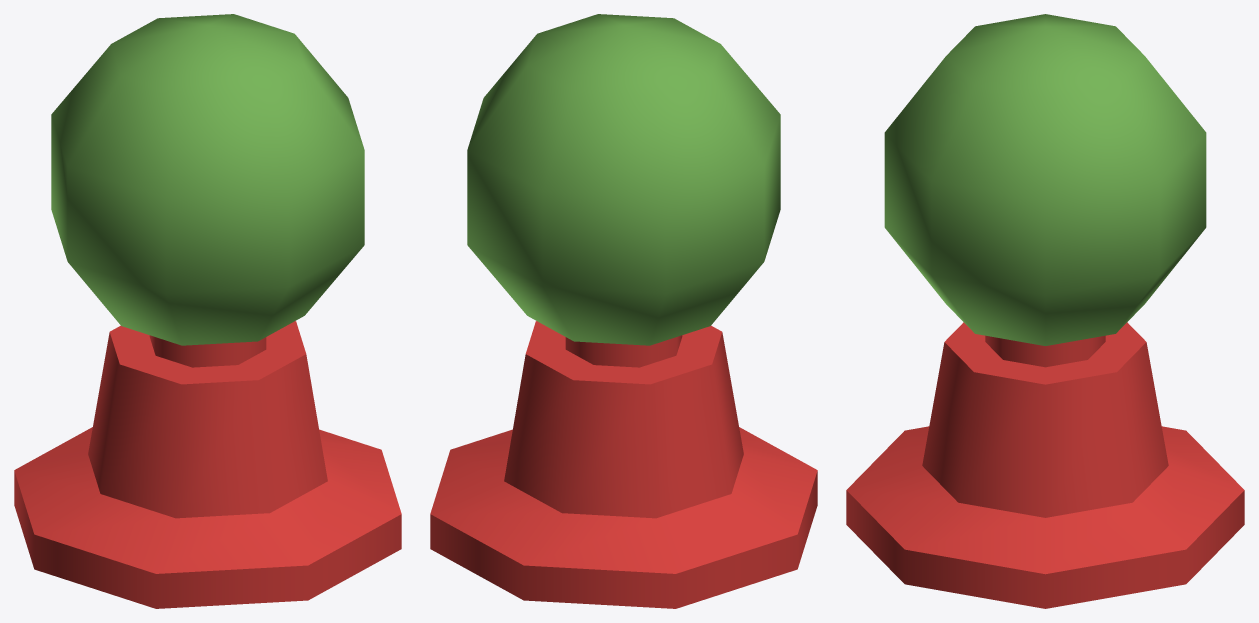
File: GolfStand_01.fbx
3 views of the same model, side by side, from view 1: azimuth 30°, elevation 25°; view 2: azimuth 150°, elevation 25°; view 3: azimuth 270°, elevation 25° (orthographic).
Visible parts, largest first — view 1: GolfBall_01, GolfStand_01; view 2: GolfBall_01, GolfStand_01; view 3: GolfBall_01, GolfStand_01.
Part boxes in pixels (bbox=[...]): GolfBall_01: bbox=[51, 14, 364, 345]; GolfStand_01: bbox=[14, 321, 401, 608]; GolfBall_01: bbox=[467, 14, 780, 345]; GolfStand_01: bbox=[430, 321, 817, 608]; GolfBall_01: bbox=[884, 14, 1206, 345]; GolfStand_01: bbox=[846, 322, 1244, 608].
Size of the model in its own units: 0.0798 by 0.1101 by 0.0798.
